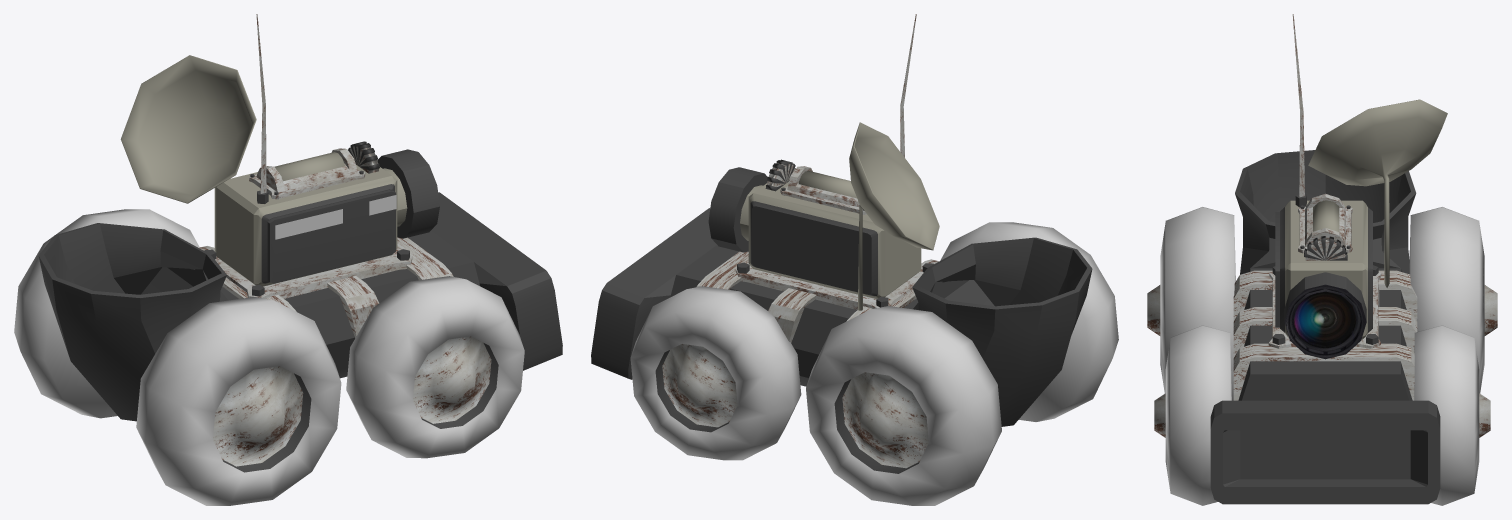
File: CatchDevice.fbx
3 renders of one model, left to right at view 1: azimuth 30°, elevation 25°; view 2: azimuth 150°, elevation 25°; view 3: azimuth 270°, elevation 25°, orthographic. The views are drawn at different scales.
Parts seen in each view (by area): view 1: Cube.001, Cylinder.007, Cylinder.002, Sphere, Cylinder.005, Cylinder.004; view 2: Cube.001, Cylinder.007, Cylinder.002, Sphere, Cylinder.005, Cylinder.004; view 3: Cube.001, Cylinder.007, Cylinder.002, Sphere, Cylinder.004, Cylinder.005.
Part boxes in pixels (x1,y1,x2,y2): Cube.001: (38, 14, 562, 421); Cylinder.007: (14, 209, 341, 505); Cylinder.002: (346, 276, 524, 458); Sphere: (120, 55, 256, 252); Cylinder.005: (274, 152, 344, 181); Cylinder.004: (348, 141, 379, 173); Cube.001: (591, 14, 1092, 426); Cylinder.007: (806, 222, 1118, 505); Cylinder.002: (630, 286, 801, 460); Sphere: (849, 122, 939, 310); Cylinder.005: (798, 171, 856, 198); Cylinder.004: (765, 159, 795, 191); Cube.001: (1210, 14, 1440, 504); Cylinder.007: (1147, 207, 1497, 400); Cylinder.002: (1154, 325, 1490, 505); Sphere: (1308, 99, 1447, 287); Cylinder.004: (1304, 236, 1347, 260); Cylinder.005: (1313, 200, 1339, 231).
Bounding box in the file's own units: 378 × 351 × 264.
